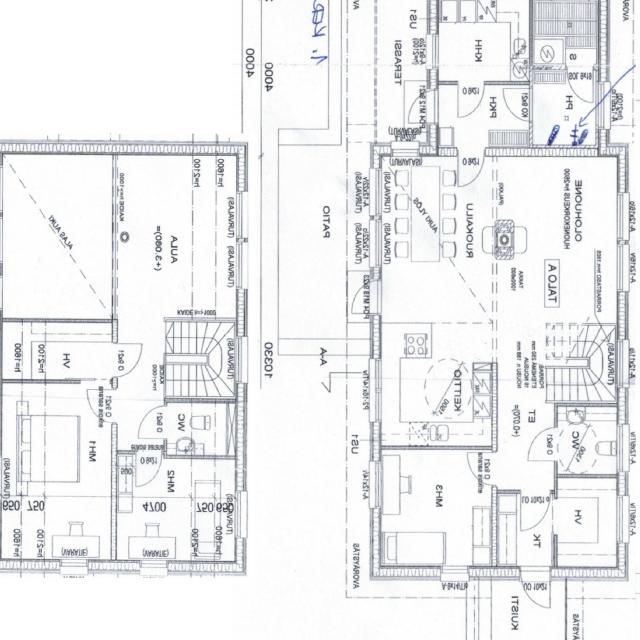door: (521, 567, 550, 618), (521, 490, 551, 530), (402, 90, 438, 123), (345, 281, 382, 313), (112, 343, 144, 377), (85, 390, 118, 422), (458, 148, 484, 188), (466, 453, 497, 486), (528, 428, 558, 461), (567, 64, 593, 102), (458, 80, 484, 117), (136, 450, 162, 486), (504, 88, 533, 120), (138, 406, 166, 438)
